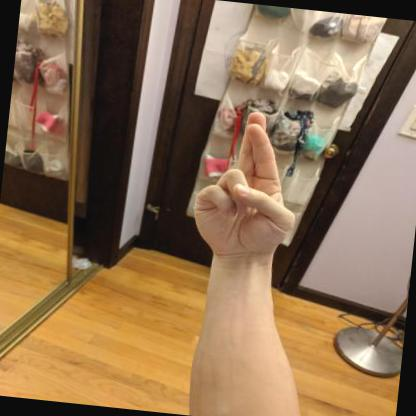R: (193, 111, 295, 265)
